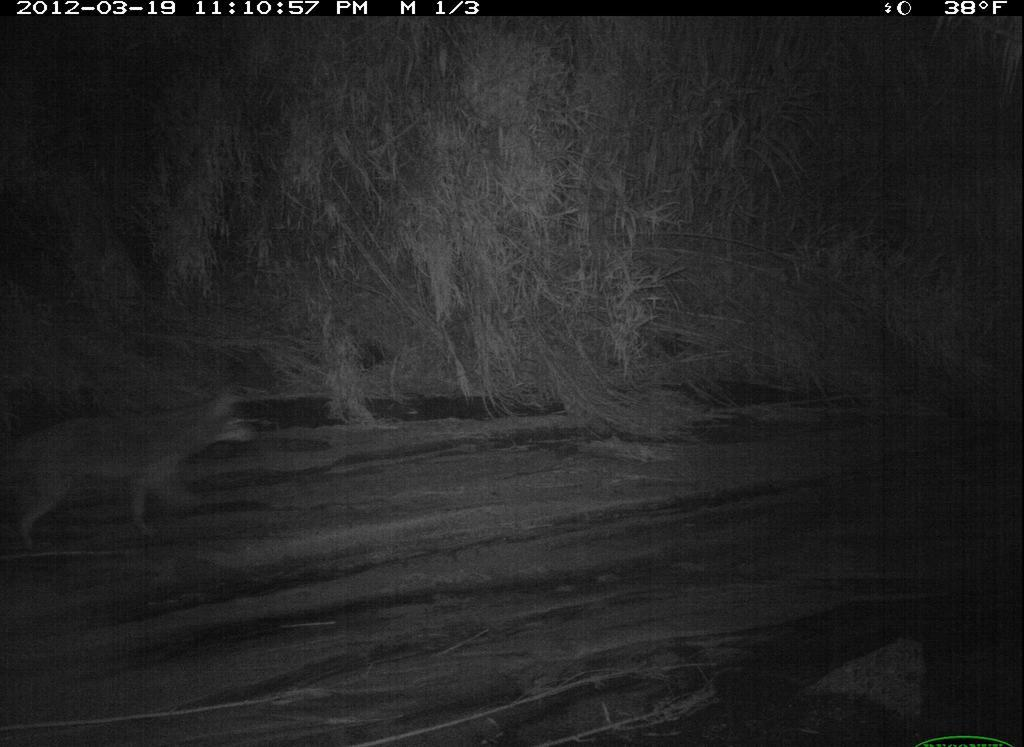coyote: (12, 388, 263, 553)
